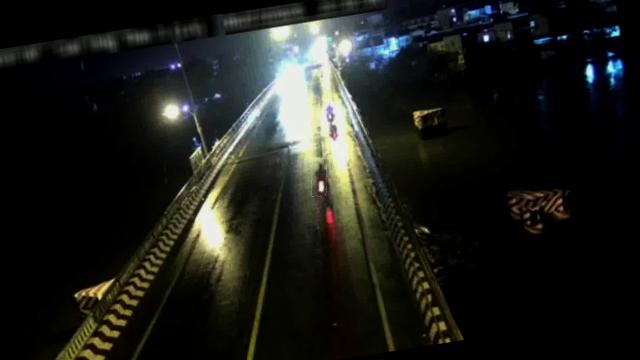Bike: (308, 156, 331, 196), (321, 99, 336, 127)
